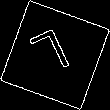L_SE: (30, 25, 80, 85)
